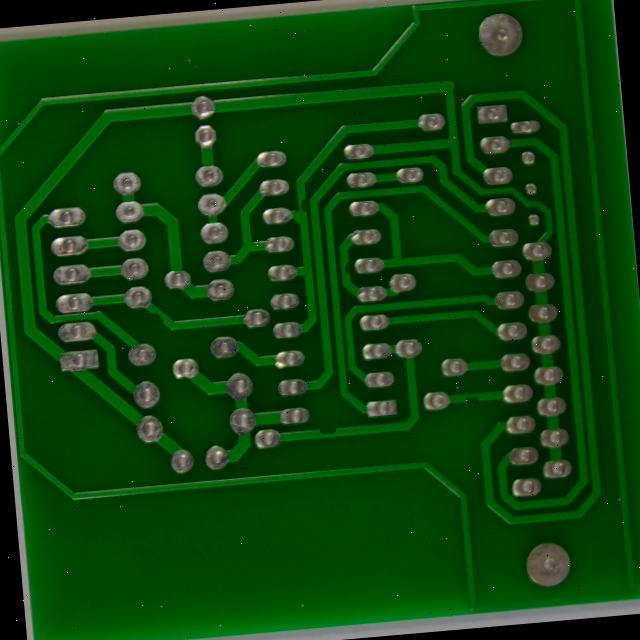mouse_bite: (156, 318, 180, 343), (332, 441, 360, 460), (309, 198, 328, 222), (484, 406, 508, 424), (355, 267, 373, 289)
